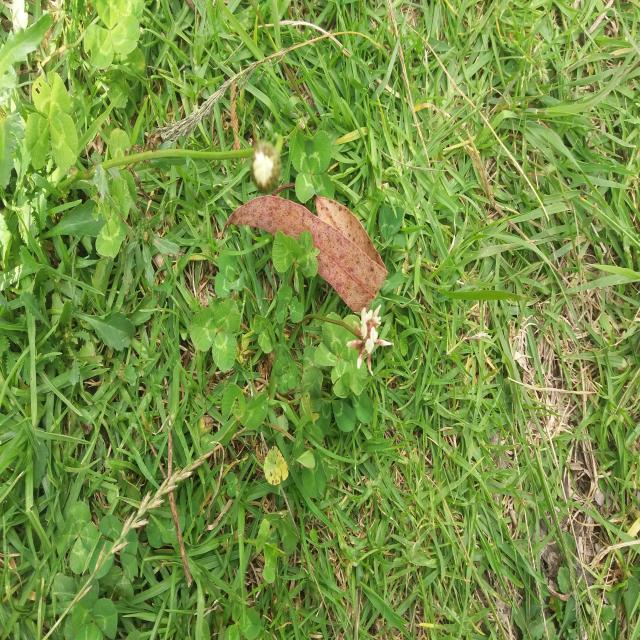Four Leaf Clover: (314, 311, 367, 398), (403, 359, 424, 385)
